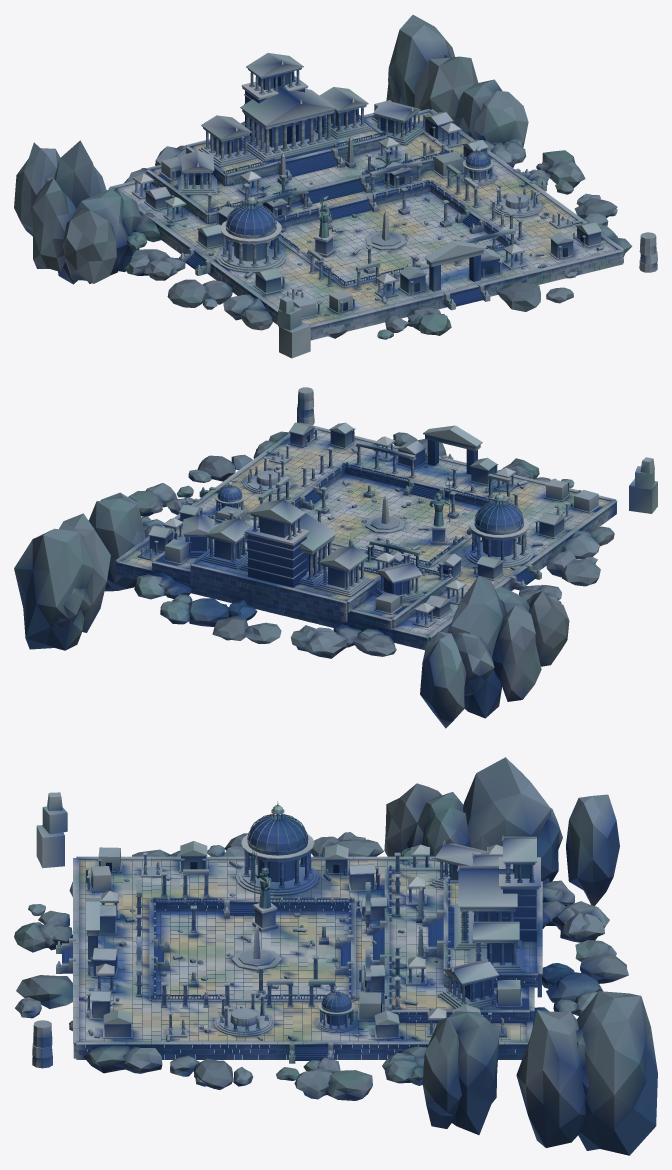
File: atlantis.glb
3 views of the same model, one above another, from view 1: azimuth 30°, elevation 25°; view 2: azimuth 150°, elevation 25°; view 3: azimuth 270°, elevation 25° (orthographic). The views are drawn at different scales.
Parts seen in each view (by area): view 1: rock_5_5, rock_4_5, rock_5_4, rock_4_4, rock_3_5, rock_6_5, rock_6_6, rock_4_6, rock_3_6, rock_5_6, rock_3_4, rock_5_3 (+4 smaller); view 2: rock_5_4, rock_5_6, rock_4_6, rock_6_6, rock_3_6, rock_4_4, rock_4_5, rock_3_5, rock_3_4, rock_5_5, rock_6_5, rock_6_4 (+4 smaller); view 3: rock_6_6, rock_5_4, rock_4_4, rock_4_5, rock_5_5, rock_5_6, rock_6_5, rock_3_6, rock_6_4, rock_3_5, rock_4_6, rock_5_3 (+4 smaller).
Part boxes in pixels (left/top/right/bottom): rock_5_5: left=191, top=98, right=523, bottom=234; rock_4_5: left=121, top=99, right=371, bottom=271; rock_5_4: left=278, top=161, right=615, bottom=321; rock_4_4: left=178, top=193, right=457, bottom=338; rock_3_5: left=40, top=163, right=230, bottom=283; rock_6_5: left=450, top=79, right=585, bottom=194; rock_6_6: left=386, top=15, right=493, bottom=123; rock_4_6: left=116, top=53, right=299, bottom=199; rock_3_6: left=14, top=140, right=145, bottom=284; rock_5_6: left=195, top=53, right=426, bottom=171; rock_3_4: left=167, top=219, right=317, bottom=330; rock_5_3: left=450, top=255, right=607, bottom=311; rock_5_4: left=201, top=422, right=606, bottom=560; rock_5_6: left=130, top=496, right=376, bottom=640; rock_4_6: left=231, top=496, right=439, bottom=658; rock_6_6: left=14, top=498, right=149, bottom=650; rock_3_6: left=410, top=576, right=541, bottom=728; rock_4_4: left=378, top=425, right=600, bottom=589; rock_4_5: left=302, top=490, right=533, bottom=631; rock_3_5: left=439, top=516, right=569, bottom=666; rock_3_4: left=519, top=494, right=617, bottom=586; rock_5_5: left=124, top=476, right=444, bottom=590; rock_6_5: left=101, top=483, right=224, bottom=590; rock_6_4: left=188, top=422, right=314, bottom=486; rock_6_6: left=467, top=991, right=657, bottom=1155; rock_5_4: left=79, top=860, right=383, bottom=1042; rock_4_4: left=72, top=801, right=386, bottom=959; rock_4_5: left=236, top=803, right=489, bottom=958; rock_5_5: left=266, top=865, right=526, bottom=1040; rock_5_6: left=446, top=835, right=628, bottom=1035; rock_6_5: left=274, top=1009, right=486, bottom=1134; rock_3_6: left=470, top=757, right=619, bottom=905; rock_6_4: left=76, top=1010, right=280, bottom=1089; rock_3_5: left=298, top=774, right=481, bottom=867; rock_4_6: left=459, top=836, right=616, bottom=961; rock_5_3: left=15, top=945, right=78, bottom=1031.
Bounding box in the file's own units: 157 × 54.2 × 153.
